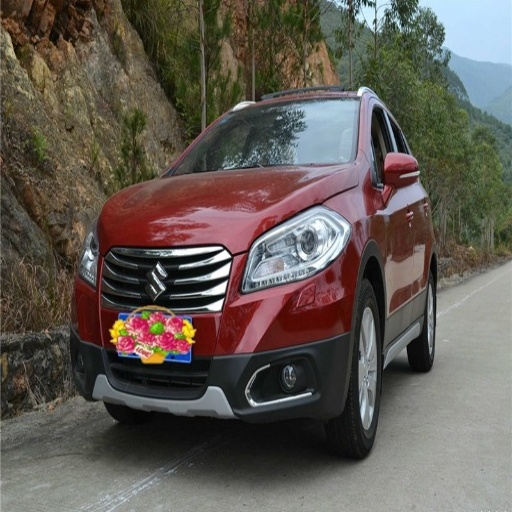front_bumper: (75, 241, 355, 421)
front_glass: (170, 100, 356, 175)
front_left_door: (364, 104, 413, 342)
